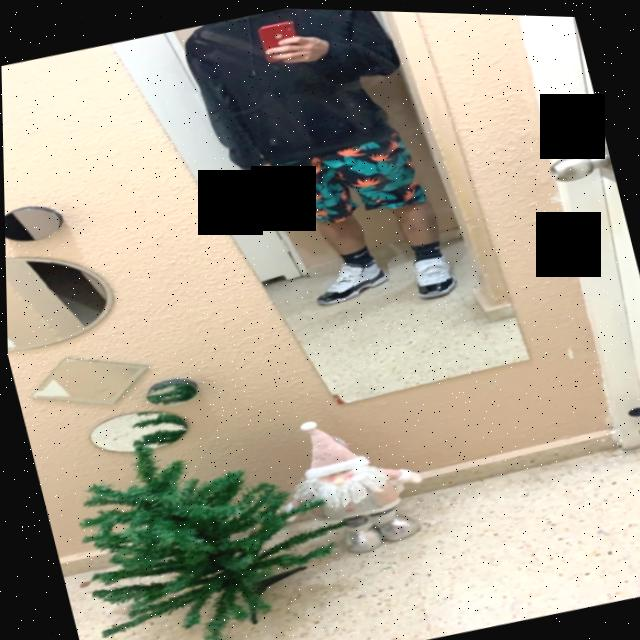shoe: (305, 250, 393, 307), (406, 248, 461, 300)
